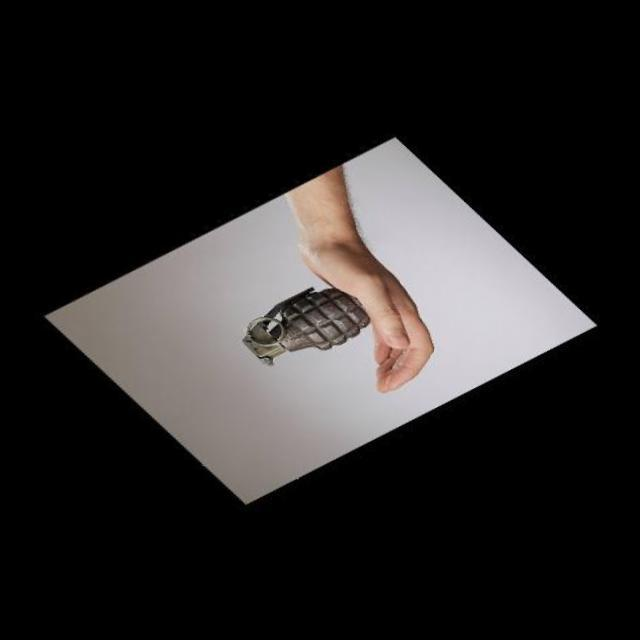grenade: (234, 270, 368, 384)
